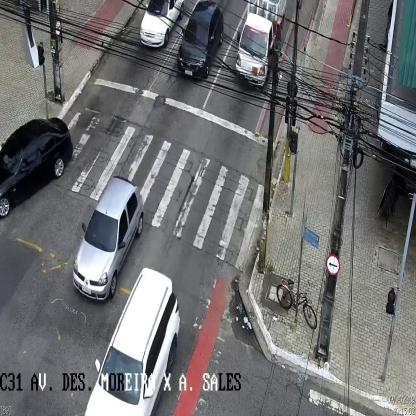bicycle: (276, 278, 316, 330)
car: (84, 268, 180, 416), (72, 176, 143, 303), (0, 118, 72, 218), (176, 0, 223, 81), (139, 2, 184, 48)
truck: (237, 0, 283, 87)
